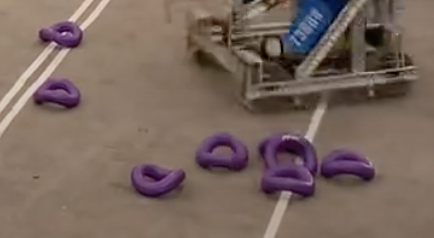ring: (264, 132, 317, 179), (195, 132, 248, 172), (131, 163, 186, 196), (321, 149, 376, 181), (262, 164, 316, 196), (33, 77, 82, 108), (39, 22, 83, 47)
